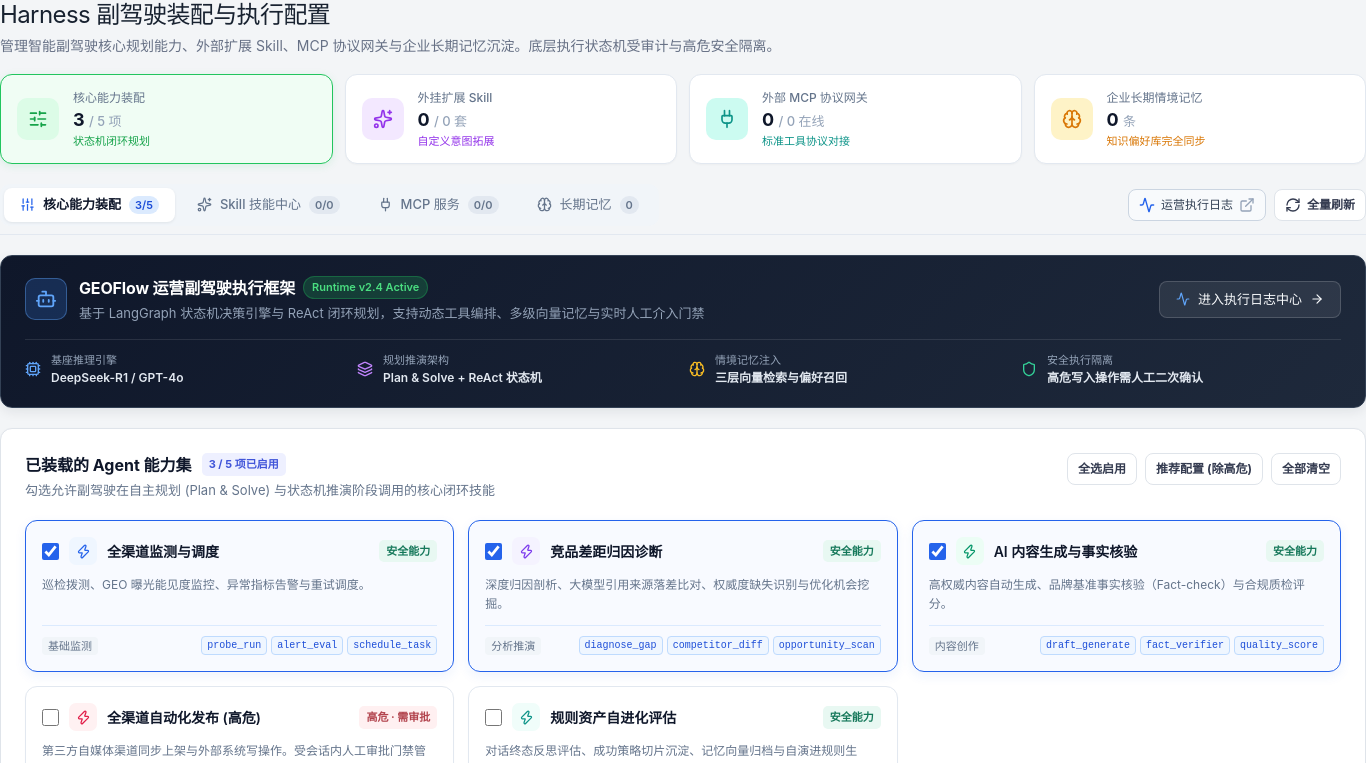
Test case: HarnessConfigView Component › switches to "MCP 服务" tab and displays registered servers
Click the tab "MCP 服务 0/0".
click(438, 205)  # box [362,188,514,222]
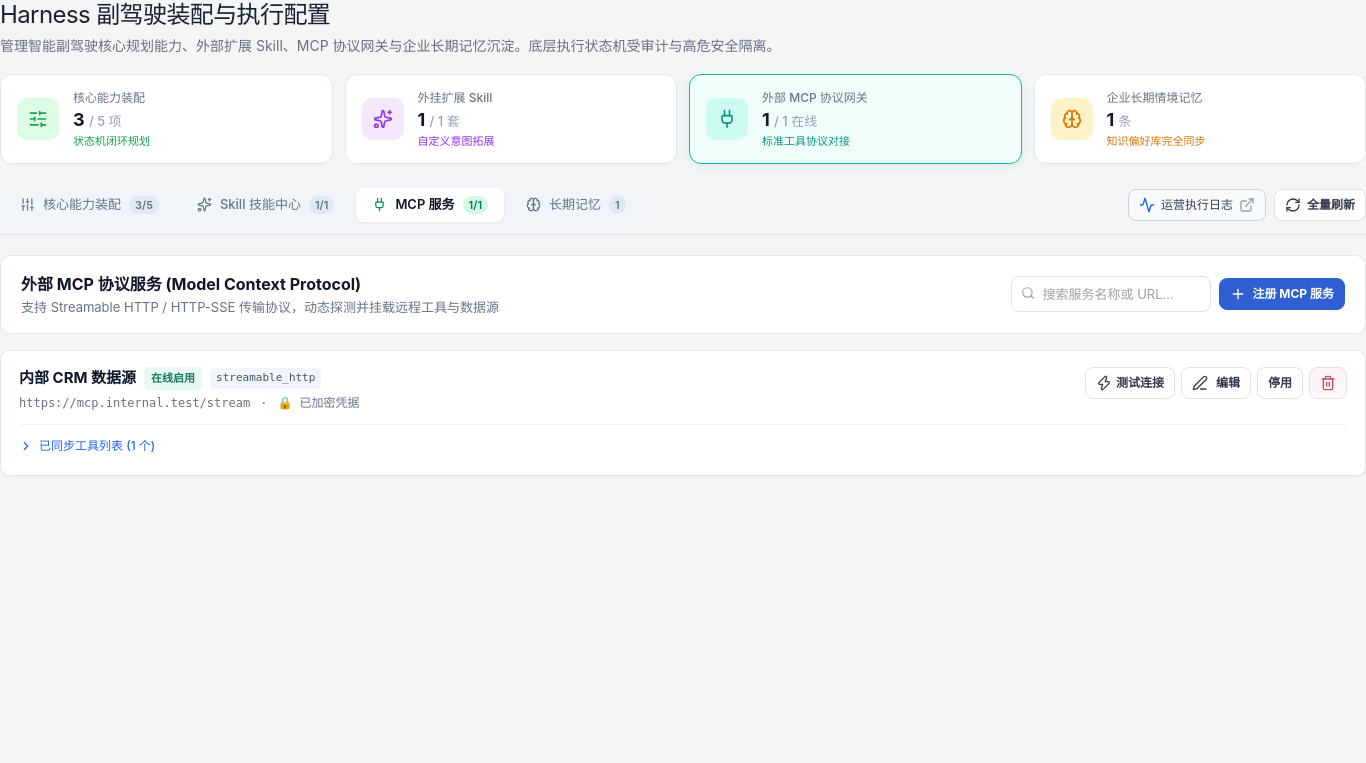
Expected: the heading "外部 MCP 协议服务 (Model Context Protocol)" is shown, [21,274,361,294]
Expected: the button "注册 MCP 服务" is shown, [1220,278,1345,310]
Expected: the text "内部 CRM 数据源" is shown, [19,367,136,390]
